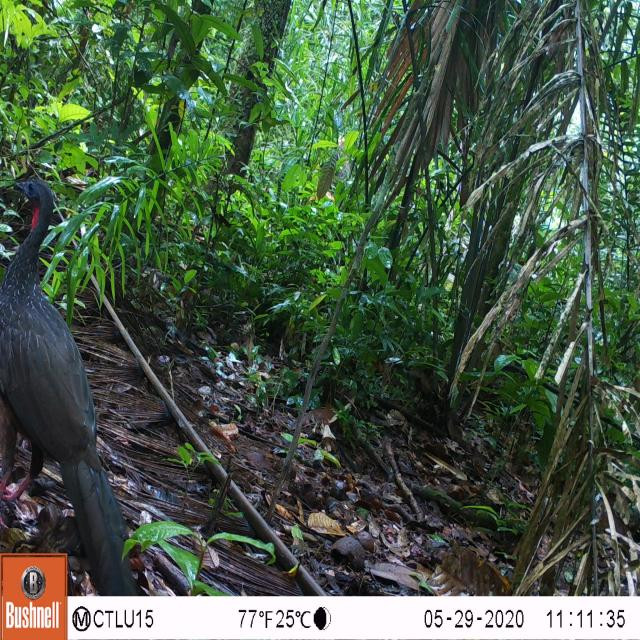Spixs Guan: (0, 164, 152, 596)
